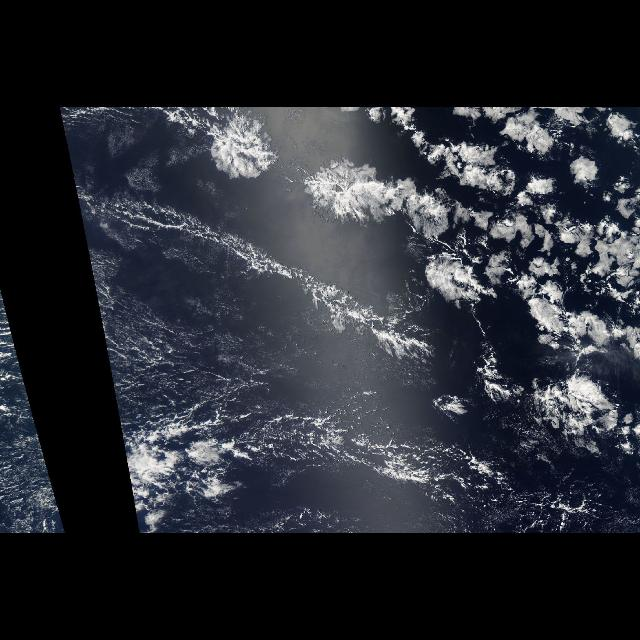Fish: (71, 175, 441, 372), (130, 404, 506, 502)
Flower: (199, 108, 639, 434)
Sugar: (93, 281, 281, 411)
